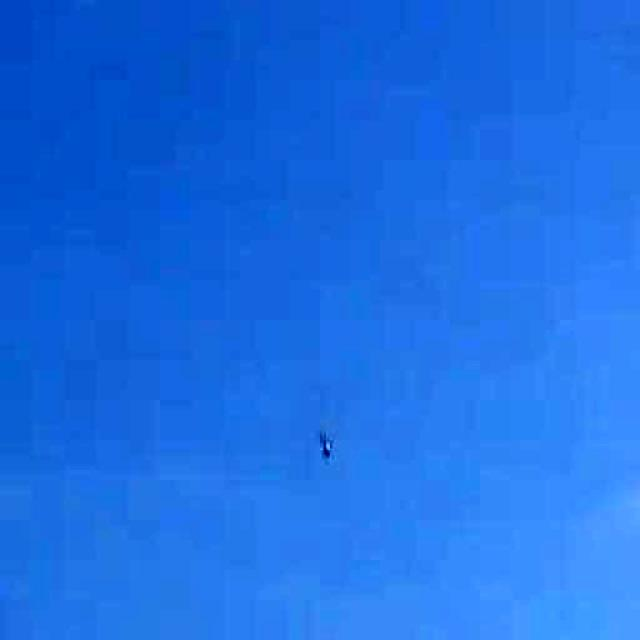drone: (289, 394, 361, 486)
